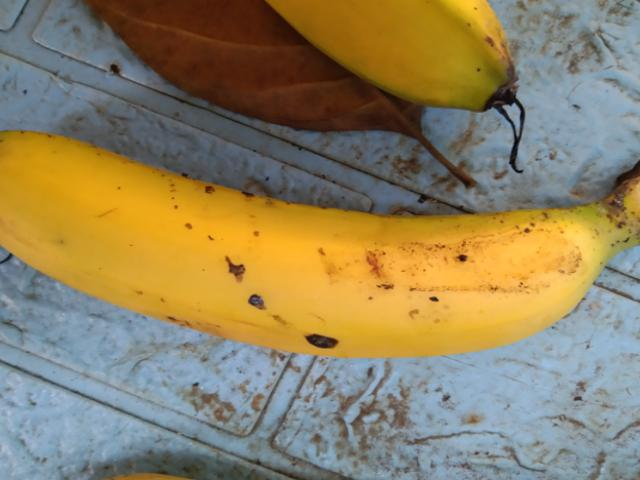ripe: (25, 112, 639, 399)
